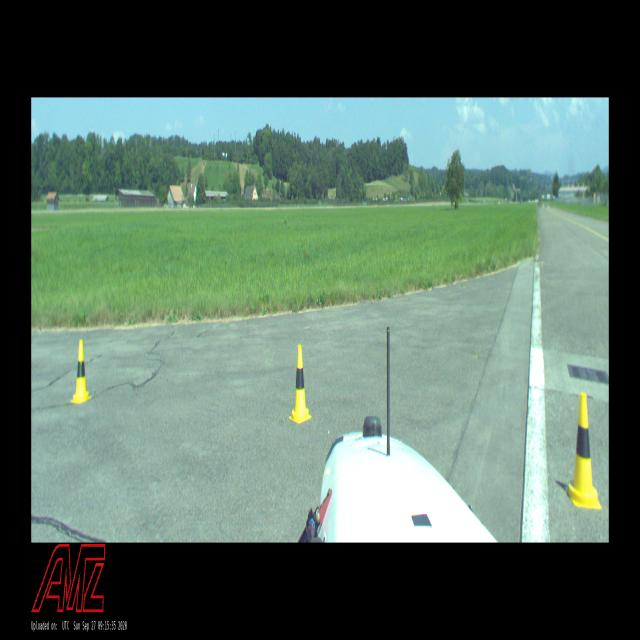yellow_cone: (566, 394, 602, 509), (289, 345, 311, 423), (71, 342, 91, 402)
